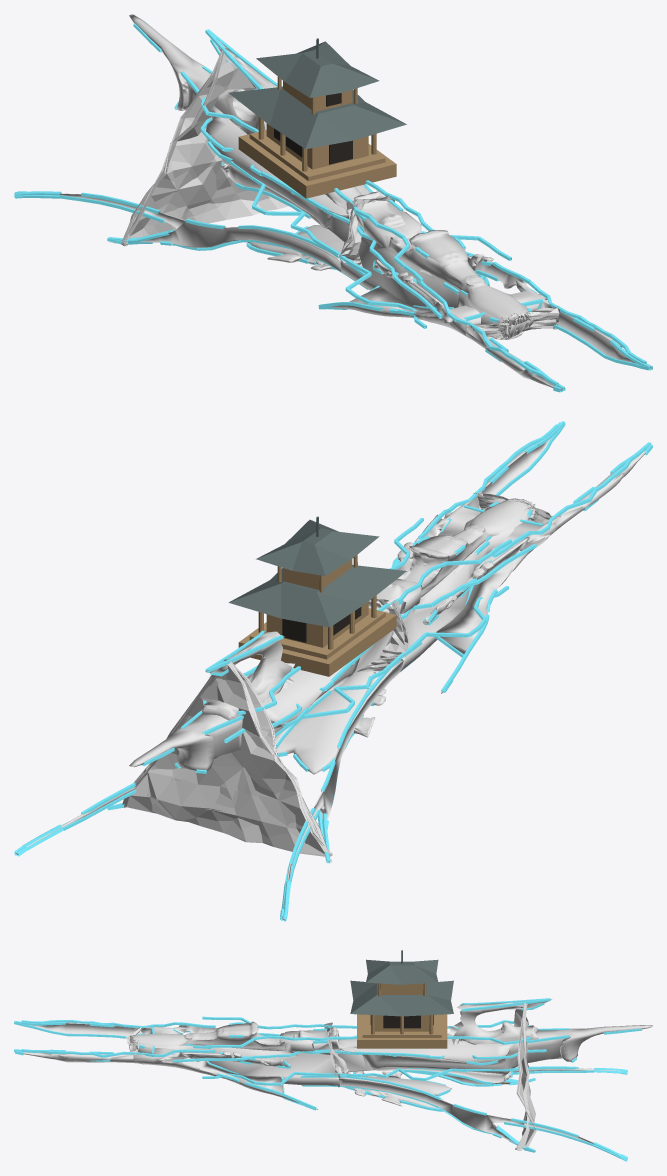
File: cruiser_frag_C.glb
The picture shows the model from 3 angles, top to bottom: view 1: azimuth 30°, elevation 25°; view 2: azimuth 150°, elevation 25°; view 3: azimuth 270°, elevation 25°; orthographic projection. The views are drawn at different scales.
Visible parts, largest first — view 1: FRAG2_XZ_Temple, FRAG2_XZ_Cruiser, FRAG1_XZ_Cruiser, FRAG2_XZ_Trim, FRAG1_XZ_Trim, FRAG3_XZ_Trim, FRAG3_XZ_Cruiser, FRAG0_XZ_Trim, FRAG0_XZ_Cruiser; view 2: FRAG2_XZ_Temple, FRAG2_XZ_Cruiser, FRAG1_XZ_Cruiser, FRAG3_XZ_Cruiser, FRAG2_XZ_Trim, FRAG3_XZ_Trim, FRAG1_XZ_Trim, FRAG0_XZ_Trim, FRAG0_XZ_Cruiser; view 3: FRAG2_XZ_Cruiser, FRAG1_XZ_Cruiser, FRAG2_XZ_Temple, FRAG2_XZ_Trim, FRAG1_XZ_Trim, FRAG3_XZ_Cruiser, FRAG3_XZ_Trim, FRAG0_XZ_Cruiser, FRAG0_XZ_Trim.
Boxes of the visible parts, box(x1,y1,x2,y2) form: FRAG2_XZ_Temple: box(228, 38, 406, 198); FRAG2_XZ_Cruiser: box(126, 48, 383, 271); FRAG1_XZ_Cruiser: box(331, 201, 552, 339); FRAG2_XZ_Trim: box(121, 47, 394, 273); FRAG1_XZ_Trim: box(318, 194, 559, 336); FRAG3_XZ_Trim: box(14, 21, 261, 244); FRAG3_XZ_Cruiser: box(60, 14, 255, 235); FRAG0_XZ_Trim: box(469, 307, 652, 392); FRAG0_XZ_Cruiser: box(465, 311, 650, 390); FRAG2_XZ_Temple: box(228, 516, 406, 676); FRAG2_XZ_Cruiser: box(124, 600, 403, 853); FRAG1_XZ_Cruiser: box(374, 497, 555, 693); FRAG3_XZ_Cruiser: box(15, 663, 329, 920); FRAG2_XZ_Trim: box(122, 599, 405, 856); FRAG3_XZ_Trim: box(14, 658, 332, 921); FRAG1_XZ_Trim: box(357, 492, 561, 692); FRAG0_XZ_Trim: box(475, 421, 652, 524); FRAG0_XZ_Cruiser: box(482, 438, 645, 530); FRAG2_XZ_Cruiser: box(325, 1001, 534, 1145); FRAG1_XZ_Cruiser: box(133, 1021, 339, 1109); FRAG2_XZ_Temple: box(350, 950, 453, 1048); FRAG2_XZ_Trim: box(323, 1000, 536, 1149); FRAG1_XZ_Trim: box(133, 1016, 342, 1110); FRAG3_XZ_Cruiser: box(516, 999, 652, 1151); FRAG3_XZ_Trim: box(515, 998, 641, 1161); FRAG0_XZ_Cruiser: box(23, 1022, 142, 1062); FRAG0_XZ_Trim: box(14, 1020, 142, 1061).
Bounding box in the file's own units: 7.24 × 6.33 × 21.91.
